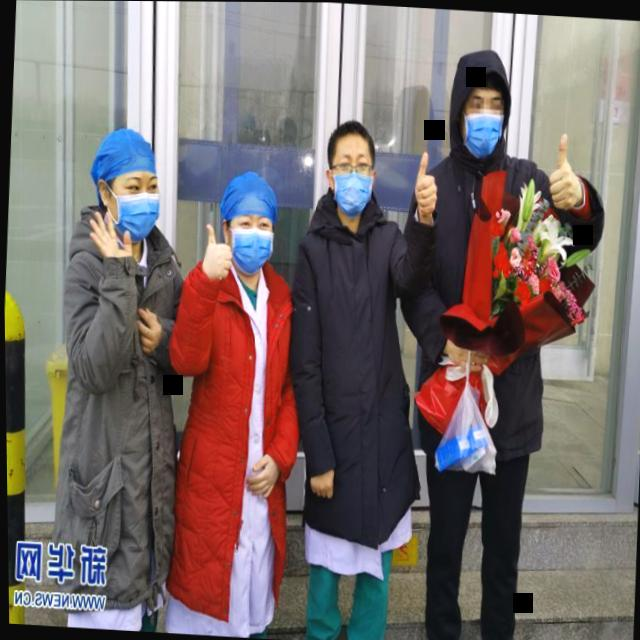Mask: (86, 123, 167, 250), (449, 45, 519, 162), (212, 170, 284, 278), (319, 116, 380, 222)
